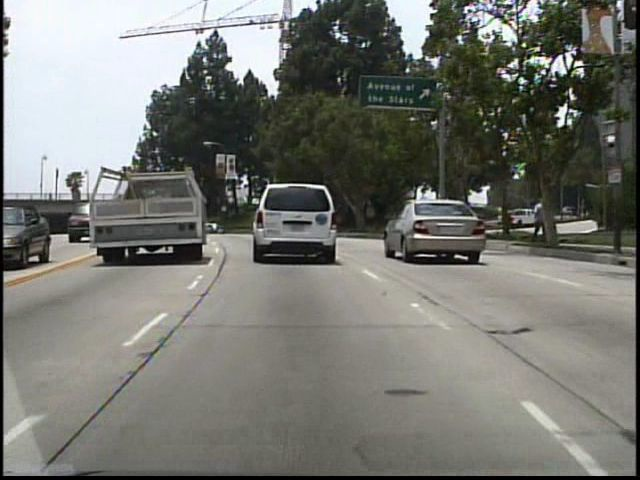person: (526, 191, 553, 250)
